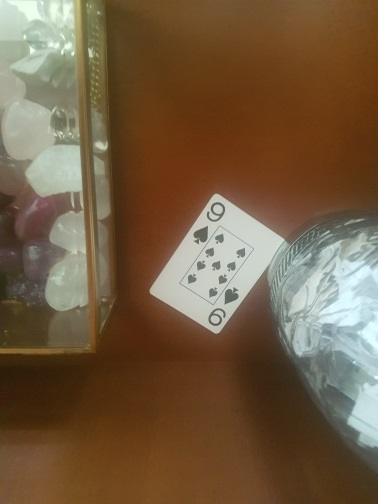nine: (147, 194, 288, 333)
